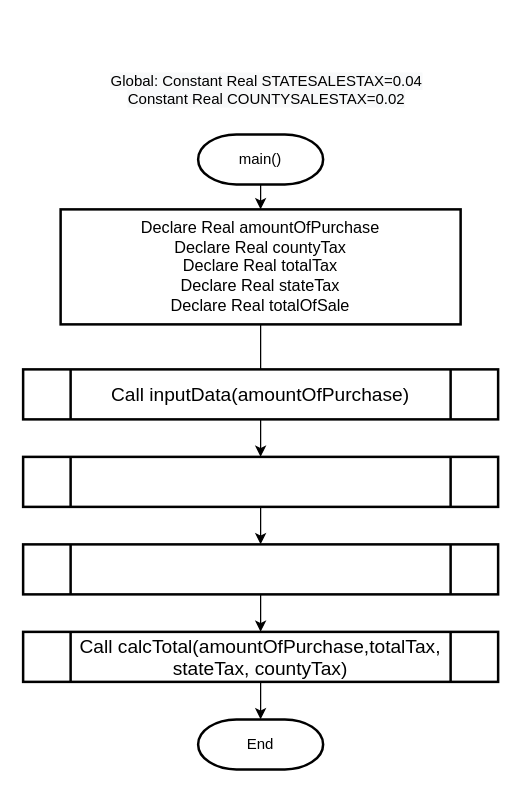
This 520x791 diagram has some shape labels left out. The shapes that lost their labels are listed below. From the top down, each one's box as (x1, y1, x2, y2) in pixels, then its label:
(21, 455, 499, 508): Call calcCounty( amountOfPurchase , countyTax)
(21, 542, 499, 595): Call calcState( amountOfPurchase , stateTax)
